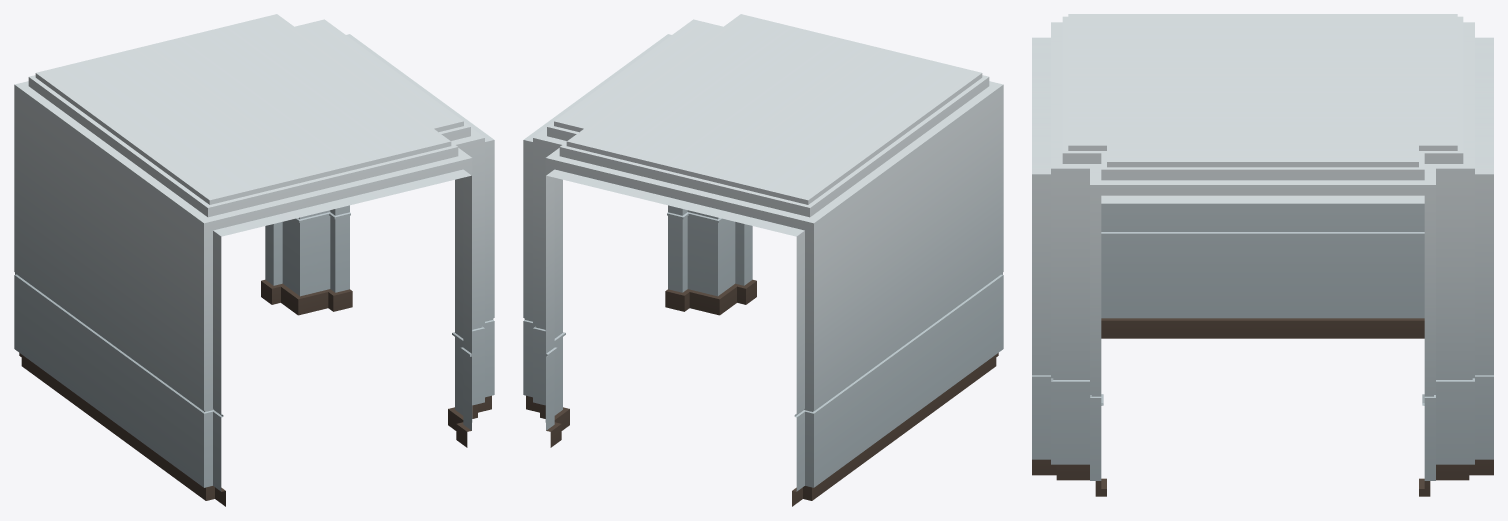
Rendered from 4m_T_Junction.fbx.
3 renders of one model, left to right at view 1: azimuth 30°, elevation 25°; view 2: azimuth 150°, elevation 25°; view 3: azimuth 270°, elevation 25°, orthographic. The views are drawn at different scales.
Visible parts, largest first — view 1: 4m_T_Junction; view 2: 4m_T_Junction; view 3: 4m_T_Junction.
Boxes of the visible parts, bbox=[...] form: 4m_T_Junction: bbox=[14, 14, 494, 506]; 4m_T_Junction: bbox=[523, 14, 1003, 506]; 4m_T_Junction: bbox=[1032, 14, 1493, 496].
Bounding box in the file's own units: 350 × 315 × 400.
